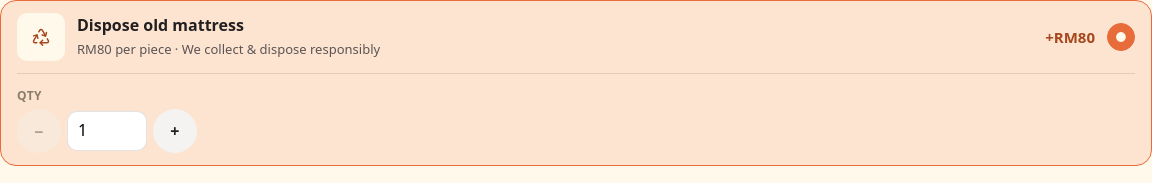
Test case: AddonCard steppers › qty: + steps from the value typed mid-edit (live draft push keeps qty current)
This screenshot has width=1152, height=183.
Replace the text in the number field labelled "Qty" with "7" at (107, 131), box [67, 111, 147, 151]
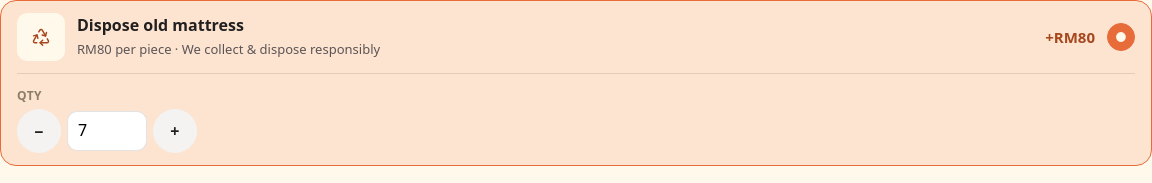
Click the button named "Increase quantity" at (175, 131), box [153, 109, 197, 153]
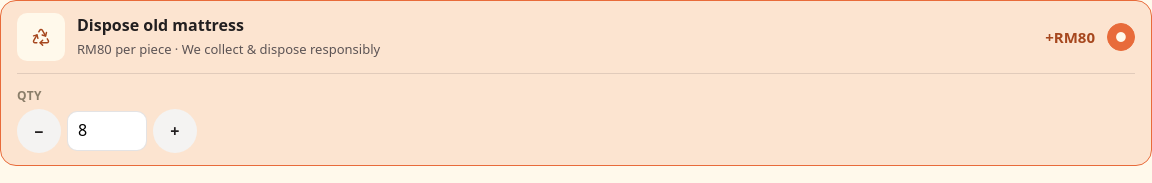
Now the number field labelled "Qty" holds "8", box [67, 111, 147, 151]
